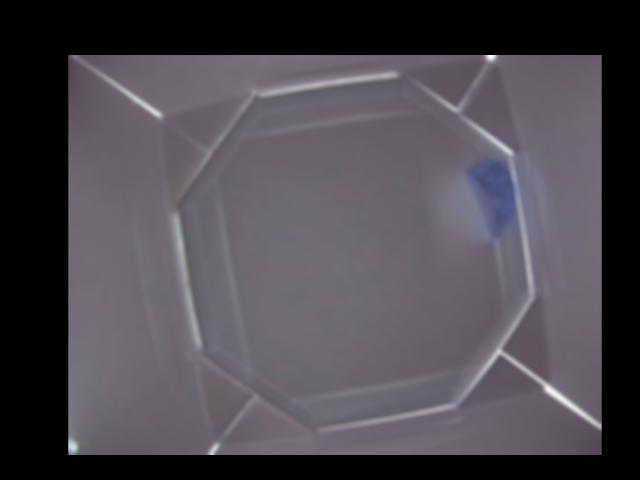Mooli: (462, 159, 516, 239)
